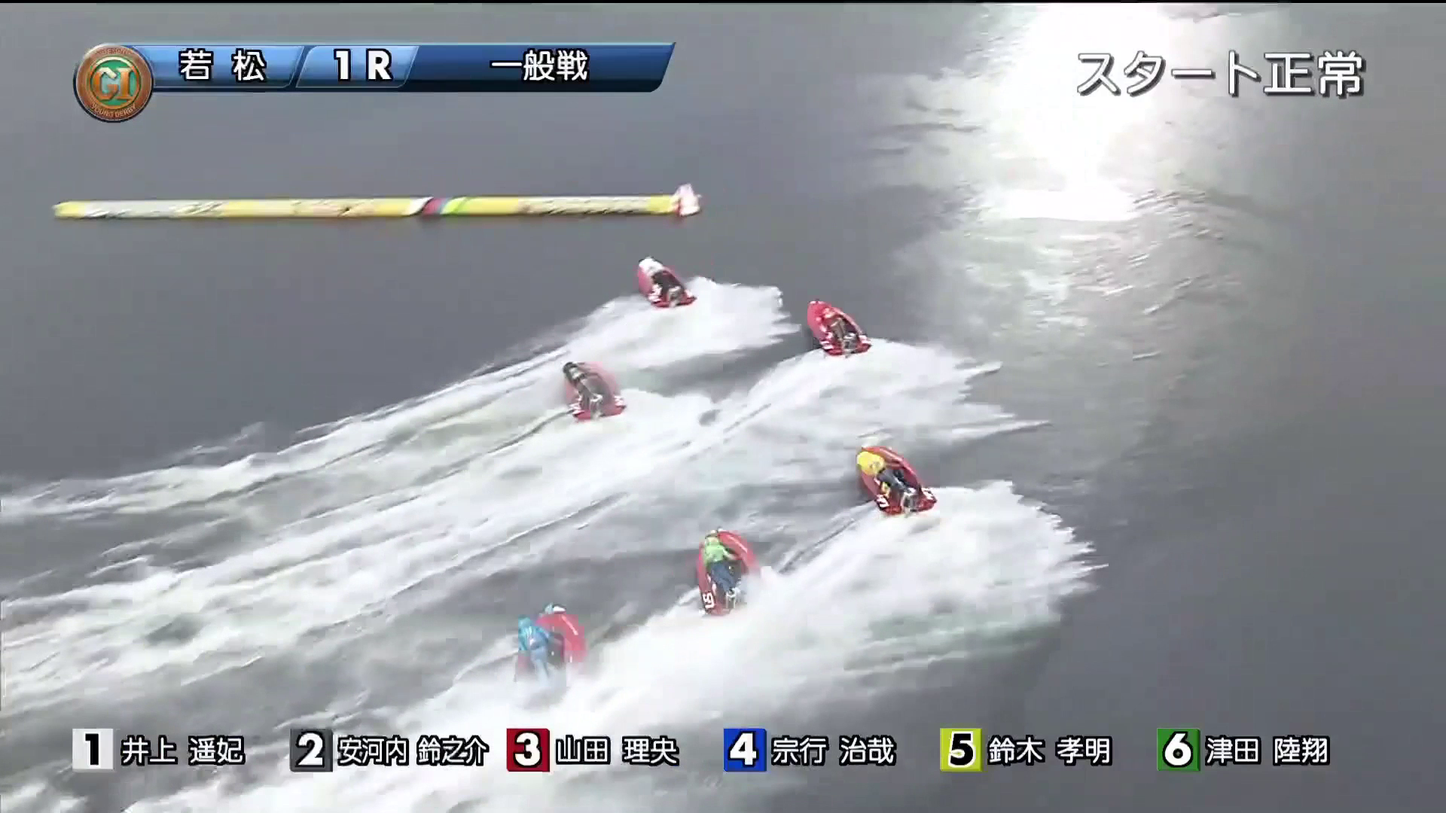１号艇: (633, 245, 703, 298)
２号艇: (549, 363, 678, 423)
３号艇: (800, 297, 897, 344)
４号艇: (667, 538, 801, 603)
５号艇: (475, 618, 599, 673)
６号艇: (869, 452, 969, 509)
